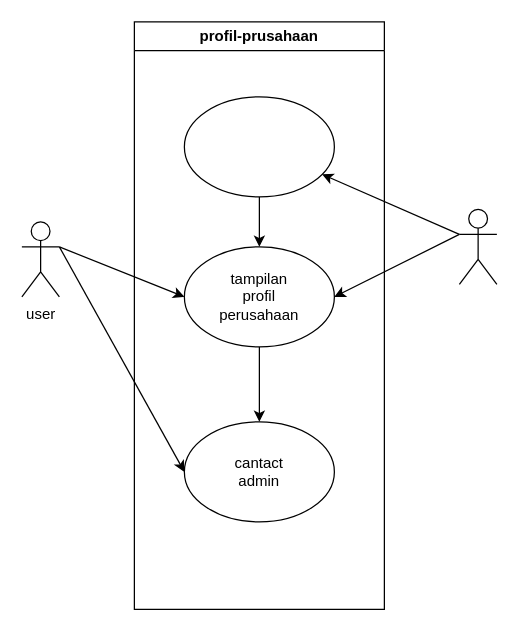
This 520x631 diagram has some shape labels left out. Here are the shapes that lost their labels. From the top down, the centre of each, then its label:
At (258,146): "login".
At (477,246): "admin".
